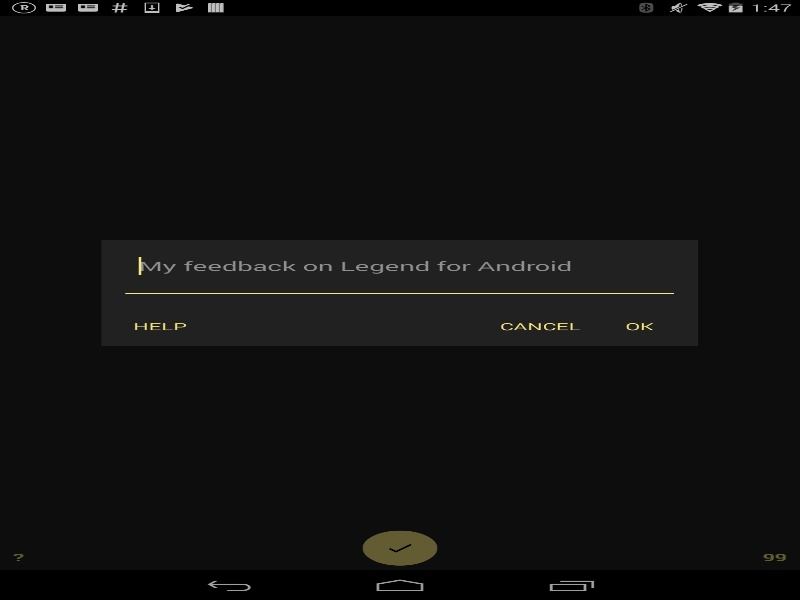Button: (484, 309, 596, 343), (596, 309, 682, 343), (117, 309, 202, 343)
Input: (120, 248, 679, 298)
